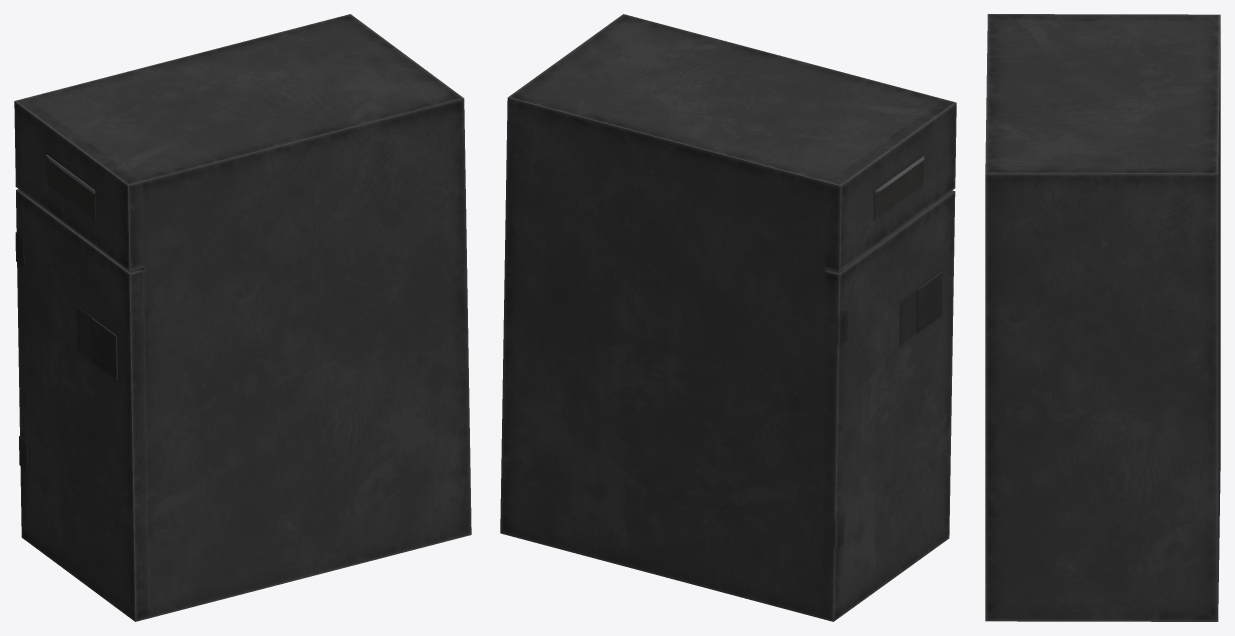
File: VOLTAGE_BOX.fbx
The picture shows the model from 3 angles, left to right: view 1: azimuth 30°, elevation 25°; view 2: azimuth 150°, elevation 25°; view 3: azimuth 270°, elevation 25°; orthographic projection.
Visible parts, largest first — view 1: VOLTAGE_BOX; view 2: VOLTAGE_BOX; view 3: VOLTAGE_BOX.
Boxes of the visible parts, x1,y1,x2,y2 form: VOLTAGE_BOX: (14,14,471,621); VOLTAGE_BOX: (500,14,956,621); VOLTAGE_BOX: (985,14,1220,621).
Size of the model in its own units: 49.34 by 60.83 by 28.79.
Materials: 1 (1 with a texture image).
